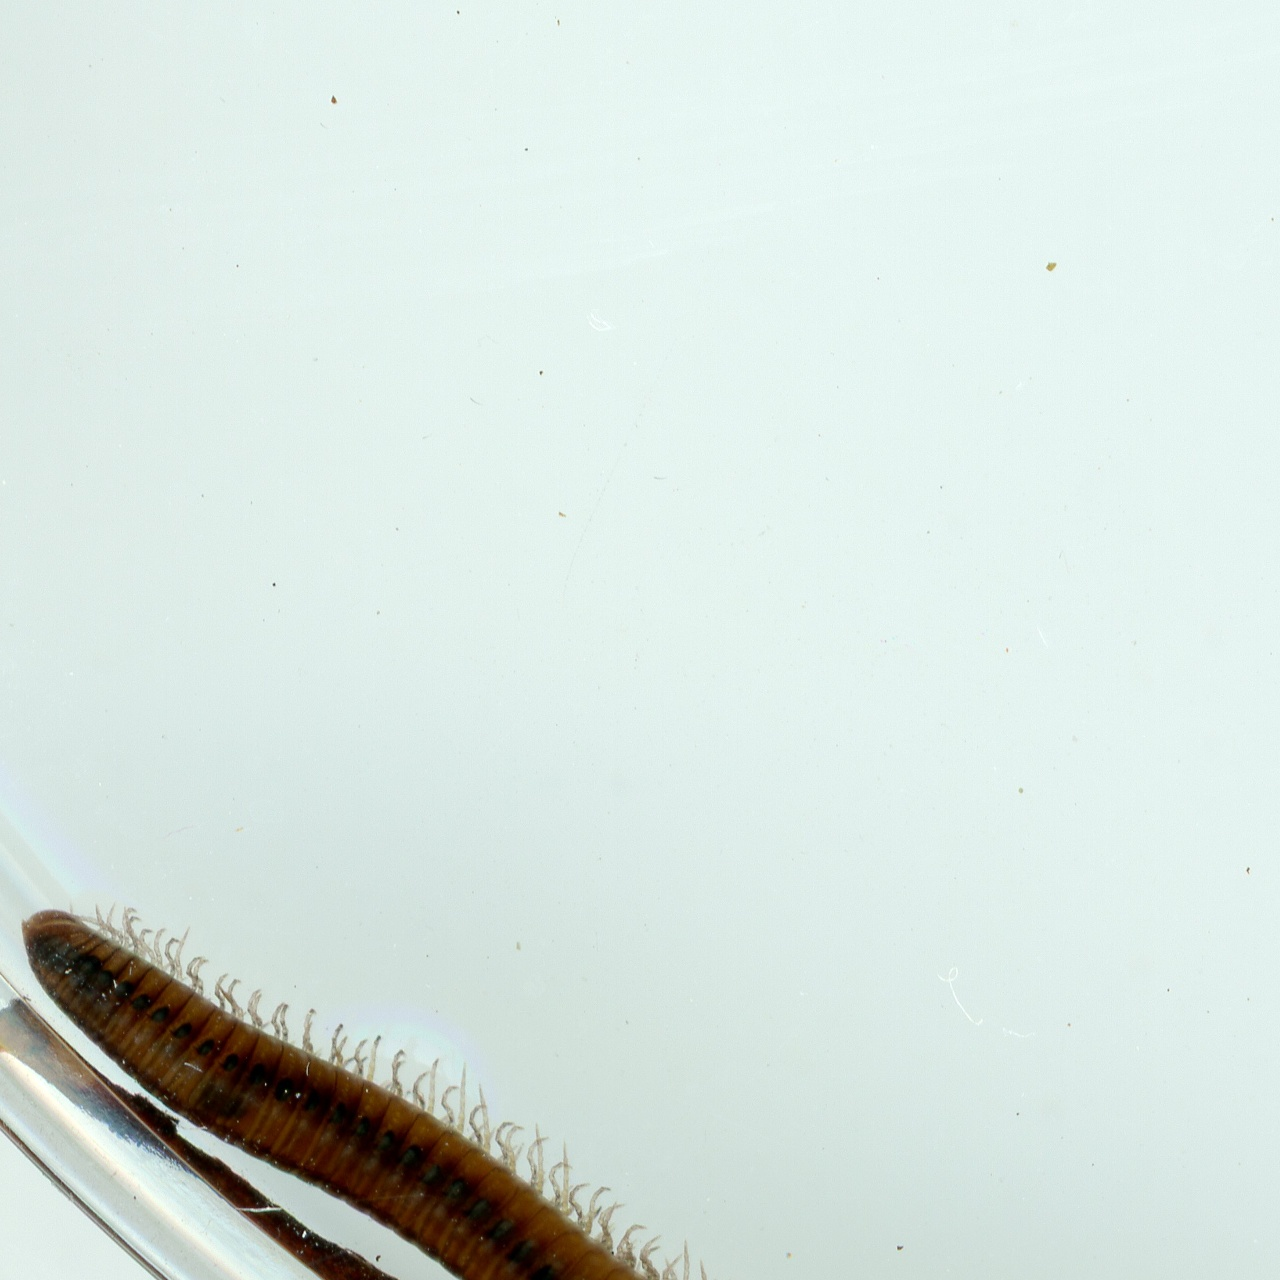arthropod: (0, 737, 1280, 1280)
